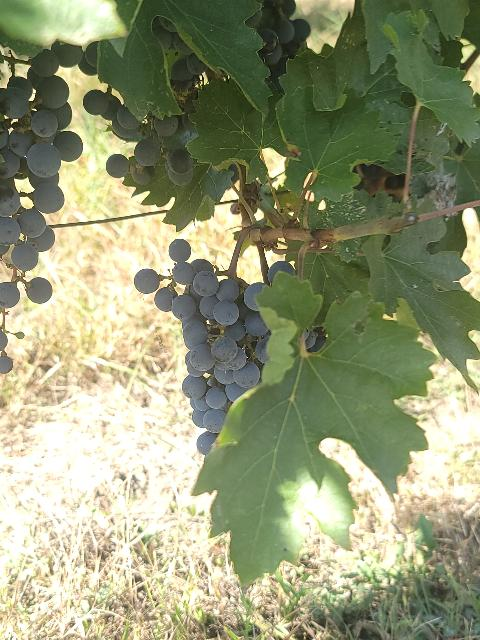grapes: (134, 239, 270, 455), (0, 41, 84, 372)
